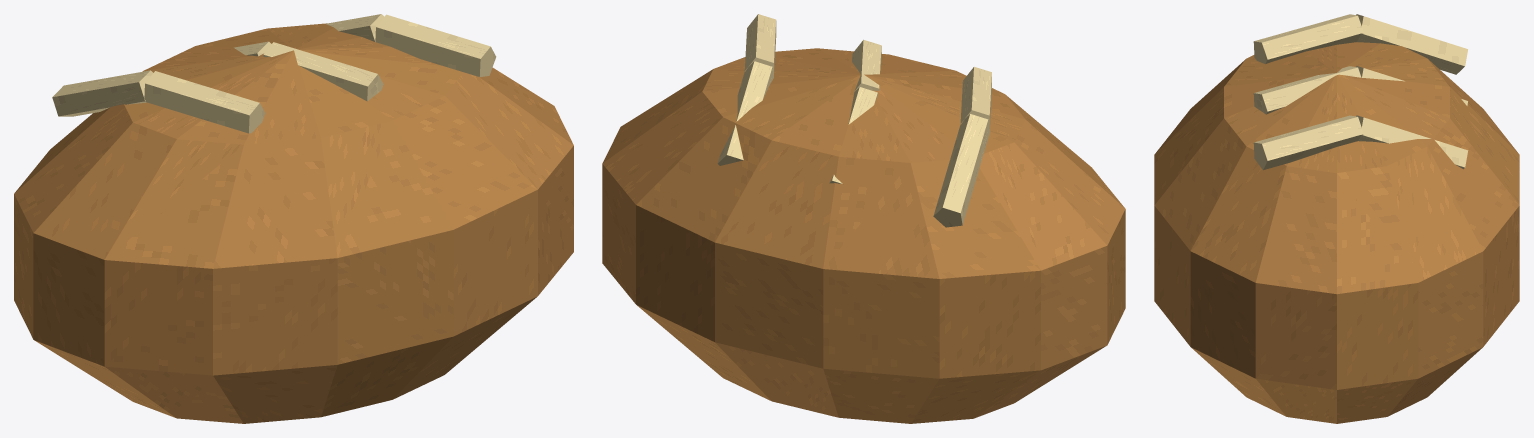
File: sourdough_bread.glb
3 renders of one model, left to right at view 1: azimuth 30°, elevation 25°; view 2: azimuth 150°, elevation 25°; view 3: azimuth 270°, elevation 25°, orthographic. The views are drawn at different scales.
Parts seen in each view (by area): view 1: block_sourdough crust, block_scored flour seam 1 (×3), block_scored flour seam 0 (×2); view 2: block_sourdough crust, block_scored flour seam 0 (×3), block_scored flour seam 1 (×3); view 3: block_sourdough crust, block_scored flour seam 1 (×3), block_scored flour seam 0 (×2).
Boxes of the visible parts, x1=… form: block_sourdough crust: x1=14, y1=23, x2=573, y2=423; block_scored flour seam 1 (×3): x1=144, y1=14, x2=496, y2=133; block_scored flour seam 0 (×2): x1=52, y1=14, x2=384, y2=116; block_sourdough crust: x1=602, y1=48, x2=1125, y2=423; block_scored flour seam 0 (×3): x1=717, y1=61, x2=990, y2=227; block_scored flour seam 1 (×3): x1=744, y1=14, x2=991, y2=128; block_sourdough crust: x1=1154, y1=42, x2=1519, y2=423; block_scored flour seam 1 (×3): x1=1253, y1=14, x2=1363, y2=170; block_scored flour seam 0 (×2): x1=1356, y1=14, x2=1468, y2=169.
Bounding box in the file's own units: 0.0805 × 0.0513 × 0.0544.
Materials: 1 (1 with a texture image).
